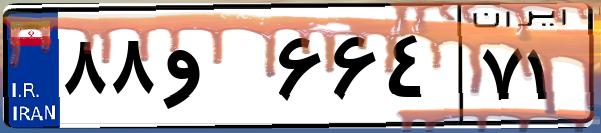1: (525, 38, 570, 115)
4: (385, 28, 445, 110)
6: (270, 28, 330, 110), (330, 28, 385, 110)
7: (475, 38, 525, 113)
8: (57, 26, 110, 100), (110, 28, 158, 98)
و: (158, 20, 270, 120)
